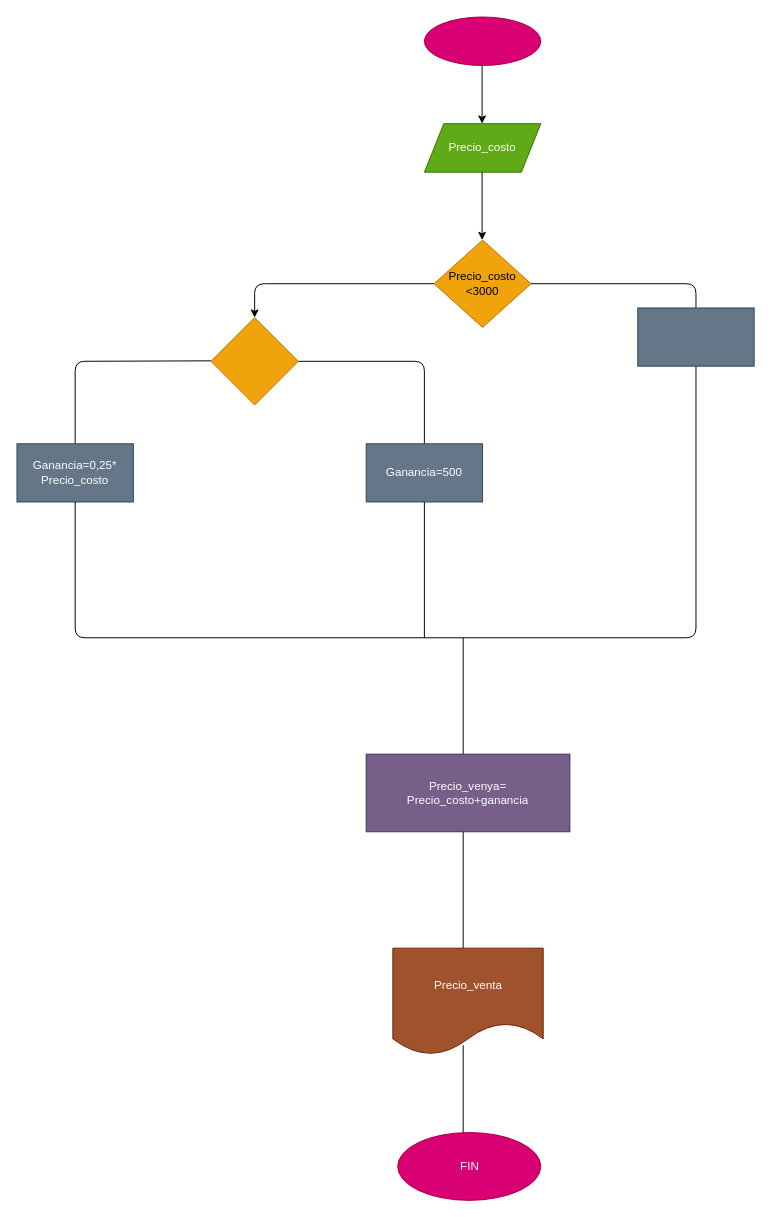
This 771x1217 diagram has some shape labels left out. Here are the shapes that lost their labels. From the top down, the centre of each, then its label:
the point at 482,40: INICIO
the point at 695,336: Ganancia=0,15*
the point at 254,361: Precio_costo <=6000
